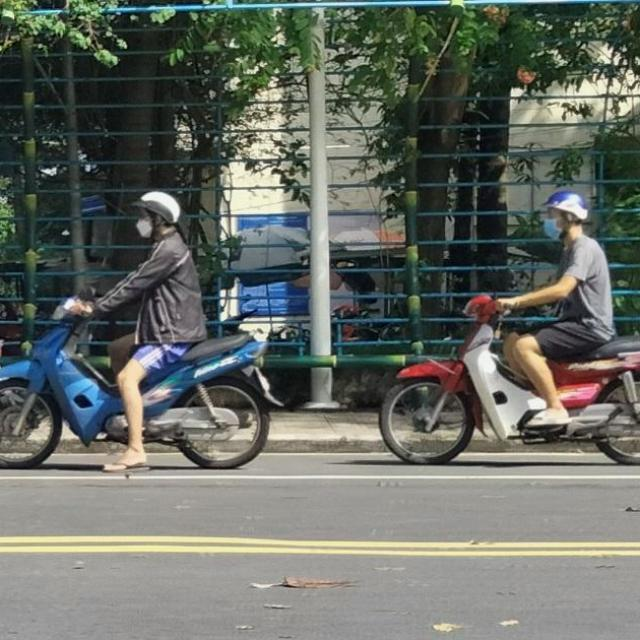Helmet: (536, 189, 594, 246), (131, 190, 182, 240)
